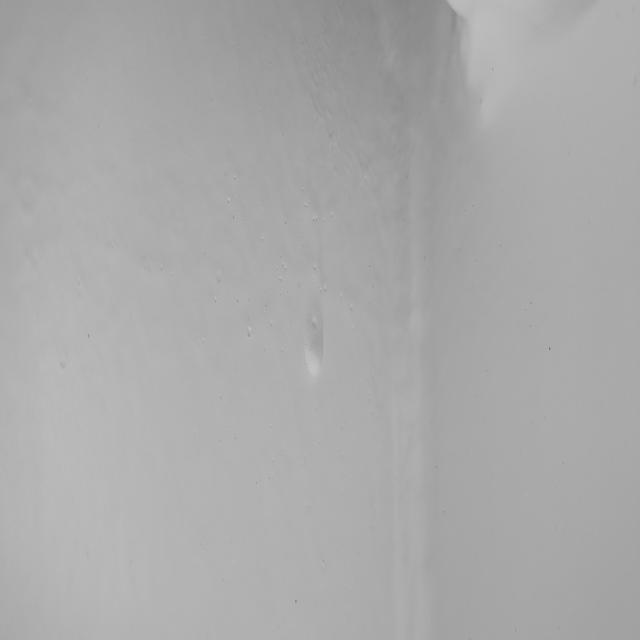paint drips: (269, 211, 354, 390)
